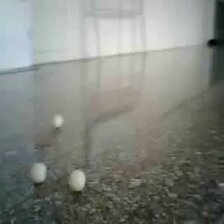w: (68, 169, 85, 191), (30, 162, 45, 182), (52, 115, 65, 129)
